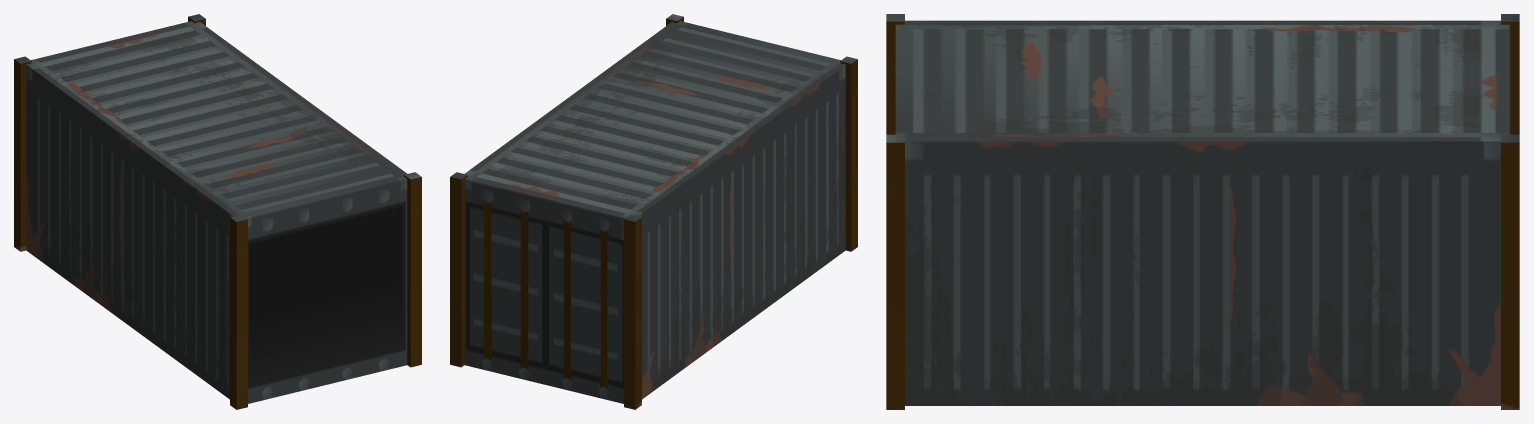
Rendered from Building_AncientMediumContainer.obj.
3 renders of one model, left to right at view 1: azimuth 30°, elevation 25°; view 2: azimuth 150°, elevation 25°; view 3: azimuth 270°, elevation 25°, orthographic. The views are drawn at different scales.
Visible parts, largest first — view 1: Body; view 2: Body; view 3: Body.
Boxes of the visible parts, box(x1,y1,x2,y2) form: Body: box(14, 14, 421, 409); Body: box(450, 14, 857, 409); Body: box(886, 14, 1519, 409).
Size of the model in its own units: 1.98 by 1.92 by 4.12.
1 material, 1 textured.
